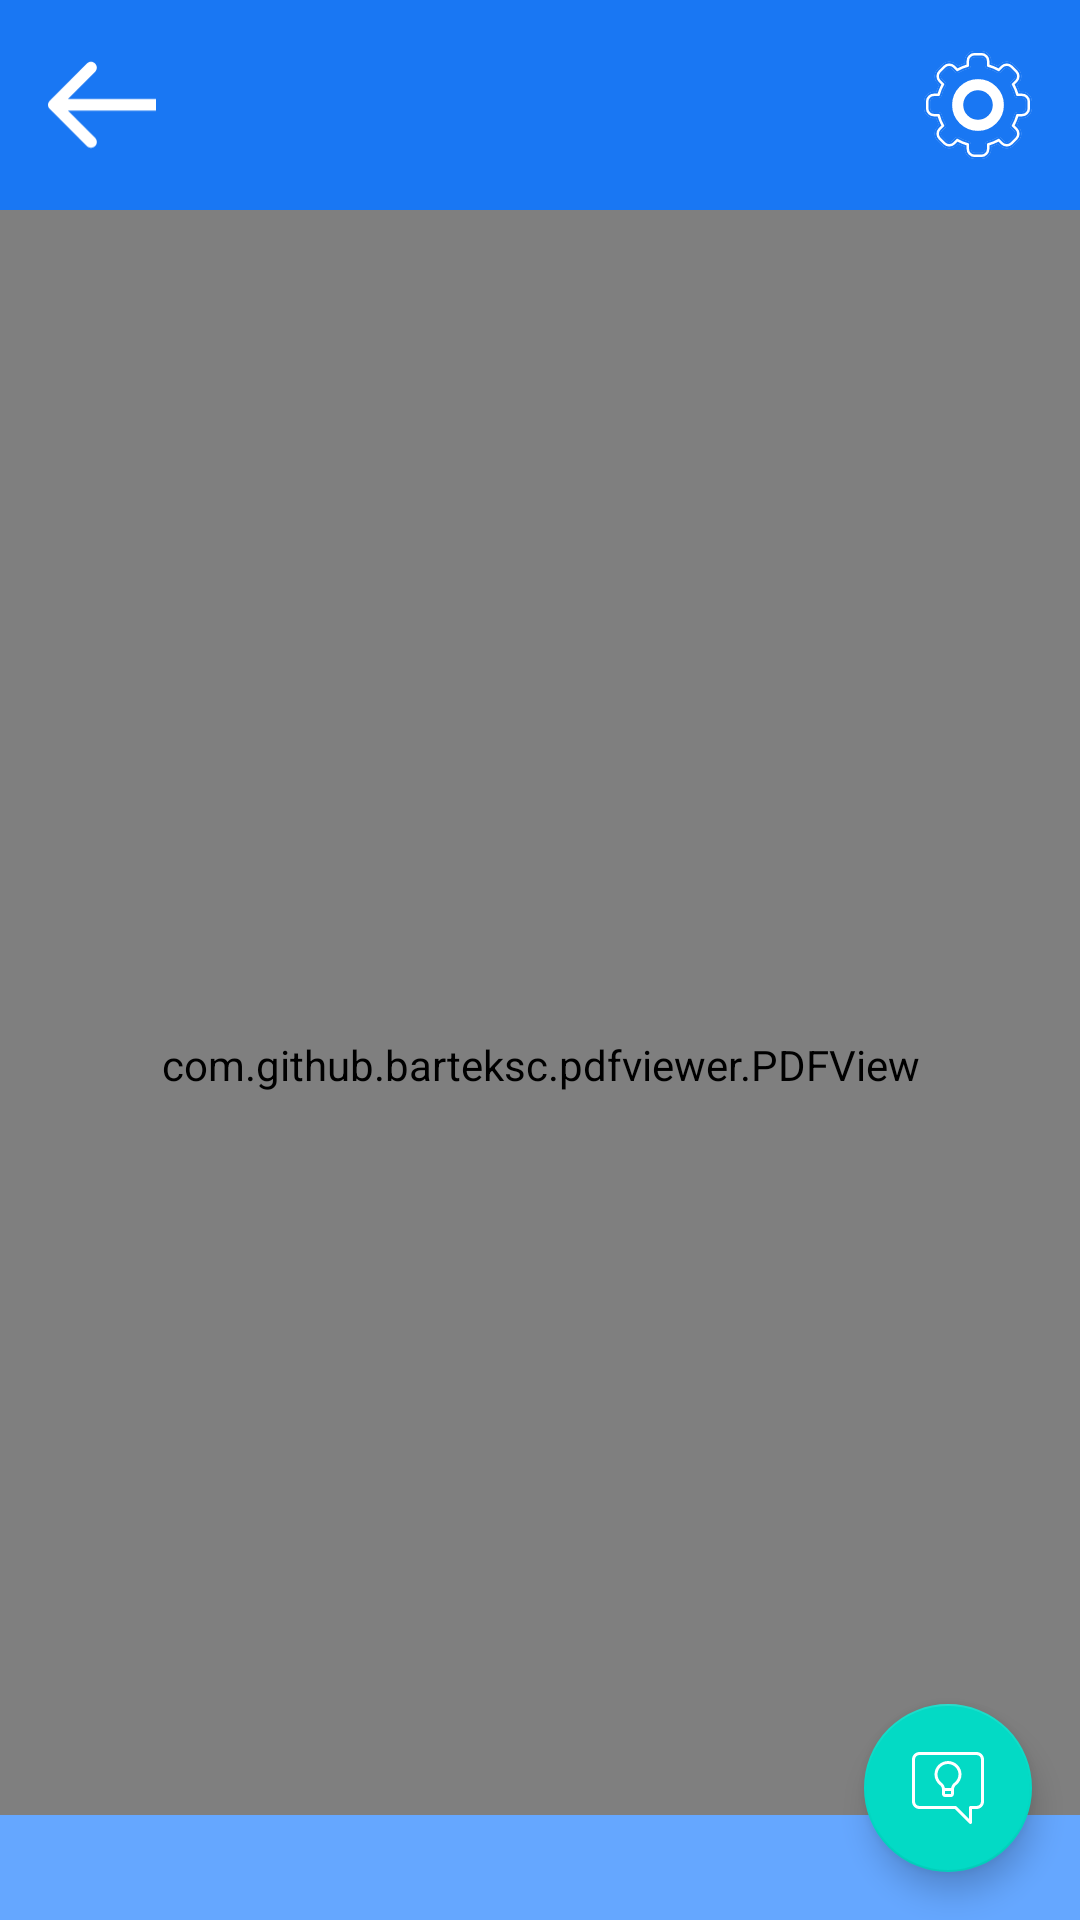

Point at icon controls on the screen. Image size 1080px x 1920px, points as (x=x, y=y).
ltk arrow back: (x=102, y=105)
ltk bulb: (x=948, y=1788)
ltk settings: (x=978, y=105)
